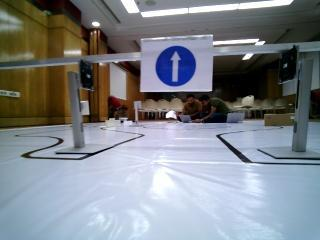straight: (140, 38, 212, 89)
